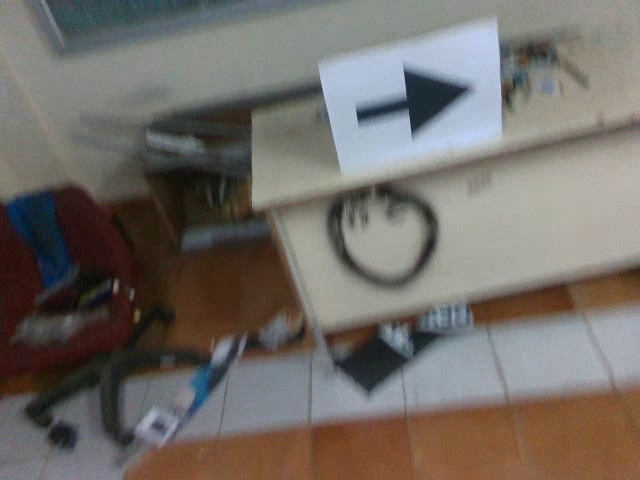Right: (347, 59, 476, 146)
